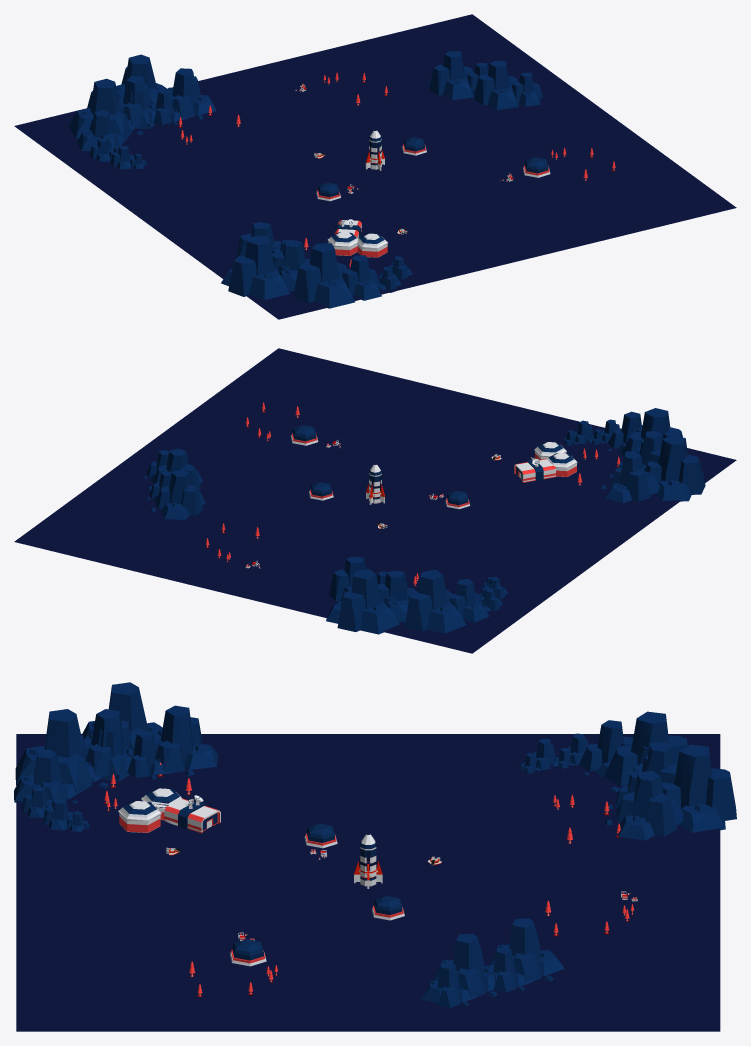
Rendered from world2.glb.
The picture shows the model from 3 angles, top to bottom: view 1: azimuth 30°, elevation 25°; view 2: azimuth 150°, elevation 25°; view 3: azimuth 270°, elevation 25°; orthographic projection. The views are drawn at different scales.
Visible parts, largest first — view 1: Plane, rock-b.004, gate, hangar_roundGlass, grass-large.002, rocket_baseA; view 2: Plane, rock-b.004, gate, hangar_roundGlass, rocket_baseA, grass-large.002; view 3: Plane, rock-b.004, gate, hangar_roundGlass, grass-large.002, rocket_baseA.
Part boxes in pixels (left/top/right/bottom): Plane: left=14, top=14, right=736, bottom=319; rock-b.004: left=68, top=51, right=542, bottom=308; gate: left=327, top=219, right=388, bottom=257; hangar_roundGlass: left=316, top=137, right=550, bottom=201; grass-large.002: left=178, top=72, right=615, bottom=268; rocket_baseA: left=365, top=129, right=384, bottom=170; Plane: left=14, top=348, right=736, bottom=653; rock-b.004: left=143, top=408, right=705, bottom=634; gate: left=514, top=442, right=577, bottom=482; hangar_roundGlass: left=290, top=425, right=470, bottom=509; rocket_baseA: left=366, top=463, right=384, bottom=504; grass-large.002: left=205, top=402, right=620, bottom=585; Plane: left=16, top=734, right=720, bottom=1031; rock-b.004: left=14, top=682, right=736, bottom=1007; gate: left=118, top=788, right=220, bottom=833; hangar_roundGlass: left=229, top=823, right=404, bottom=966; grass-large.002: left=104, top=762, right=634, bottom=997; rocket_baseA: left=354, top=833, right=382, bottom=888.
Bounding box in the file's own units: 474 × 47.01 × 479.
